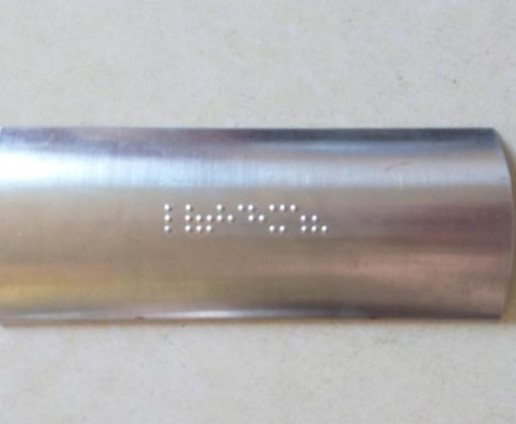Braille: (205, 203, 225, 235), (226, 203, 246, 235), (247, 203, 267, 235), (183, 204, 204, 234), (289, 203, 309, 234), (163, 203, 182, 234), (268, 204, 287, 235), (310, 203, 329, 234)
